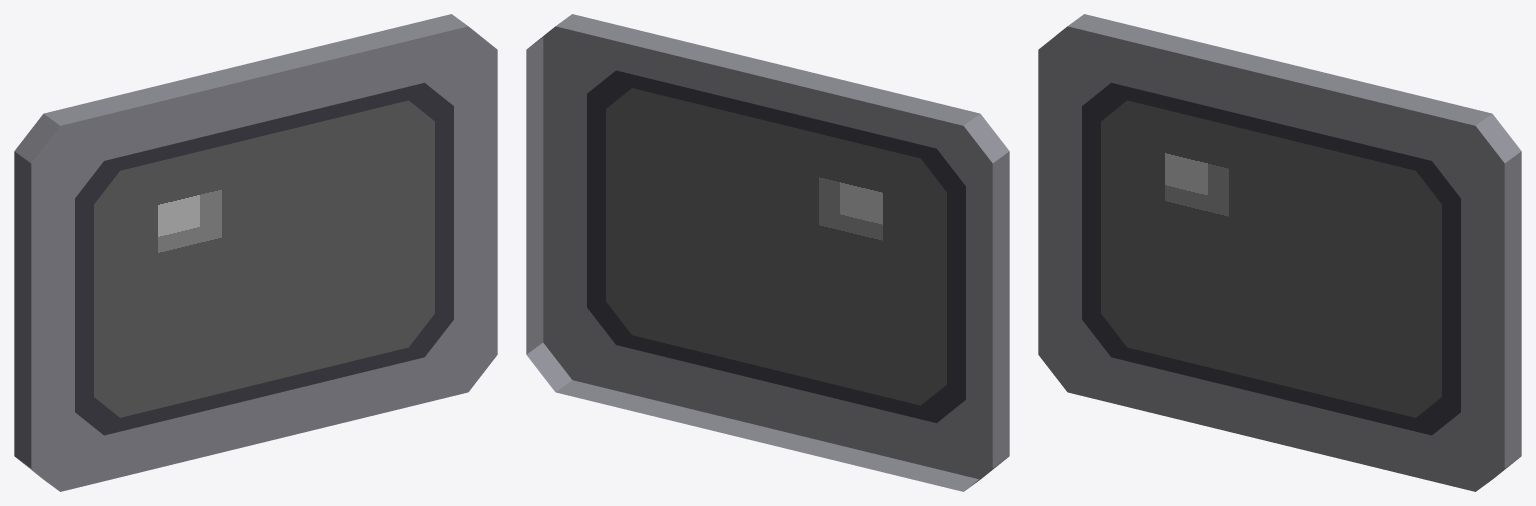
File: modelo.obj
3 views of the same model, side by side, from view 1: azimuth 30°, elevation 25°; view 2: azimuth 150°, elevation 25°; view 3: azimuth 330°, elevation 25° (orthographic).
Visible parts, largest first — view 1: polygon1, polygon0; view 2: polygon1, polygon0; view 3: polygon1, polygon0.
Boxes of the visible parts, bbox=[...] form: polygon1: bbox=[14, 14, 497, 491]; polygon0: bbox=[94, 100, 434, 417]; polygon1: bbox=[526, 14, 1009, 491]; polygon0: bbox=[606, 88, 946, 405]; polygon1: bbox=[1038, 14, 1521, 491]; polygon0: bbox=[1101, 100, 1441, 417].
Bounding box in the file's own units: 32 × 24 × 2.
2 materials, 2 textured.
